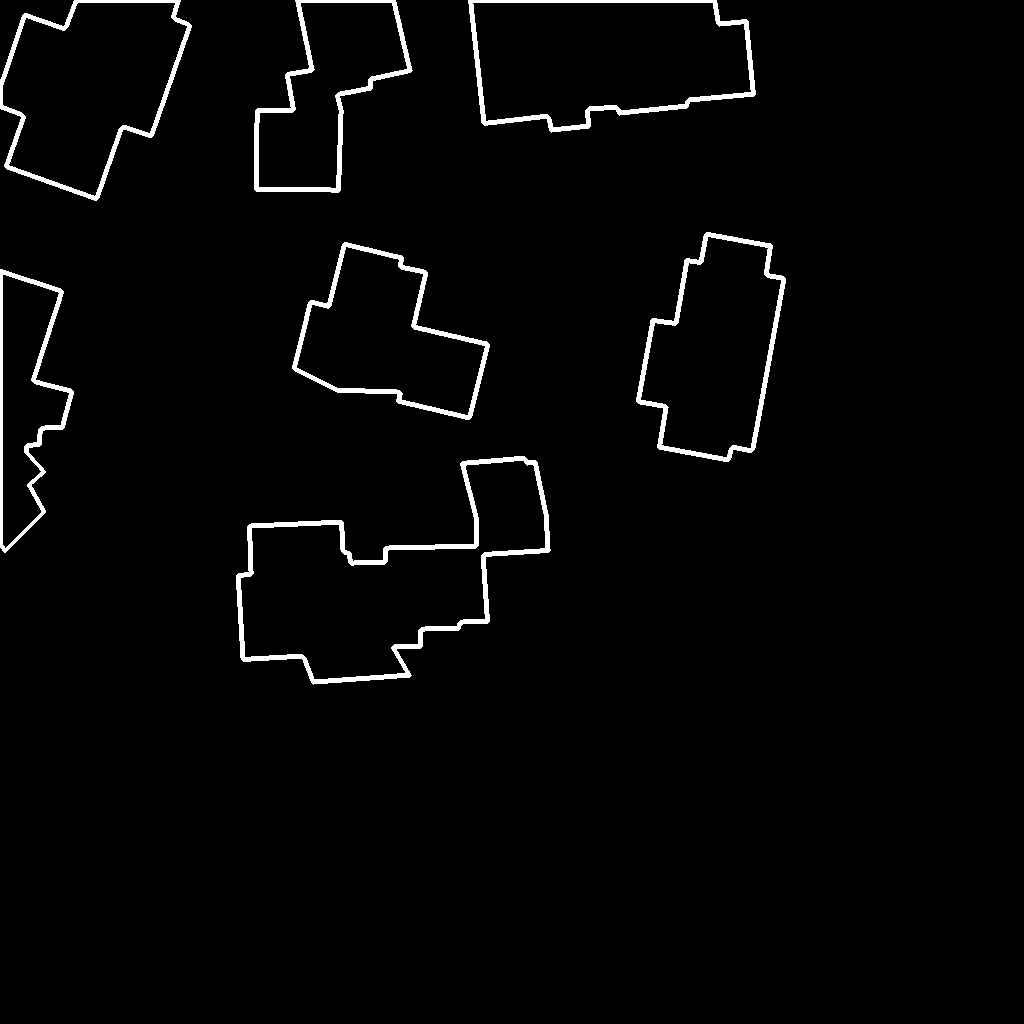building: (238, 458, 549, 683), (0, 0, 191, 200), (470, 0, 755, 131), (294, 244, 489, 419), (638, 234, 785, 461), (256, 0, 411, 191), (0, 271, 73, 552)
